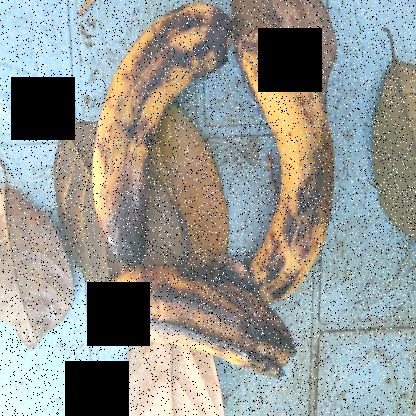overripe: (223, 34, 332, 294)
rotten: (78, 7, 235, 269), (83, 254, 317, 400)
